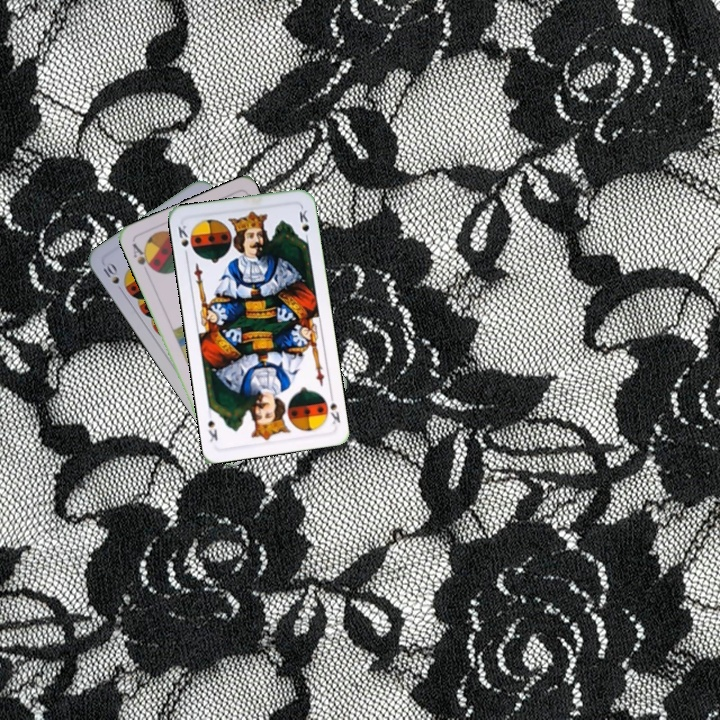S10: (98, 258, 126, 296)
SA: (128, 239, 156, 273)
SK: (174, 221, 191, 260), (326, 389, 343, 427)
